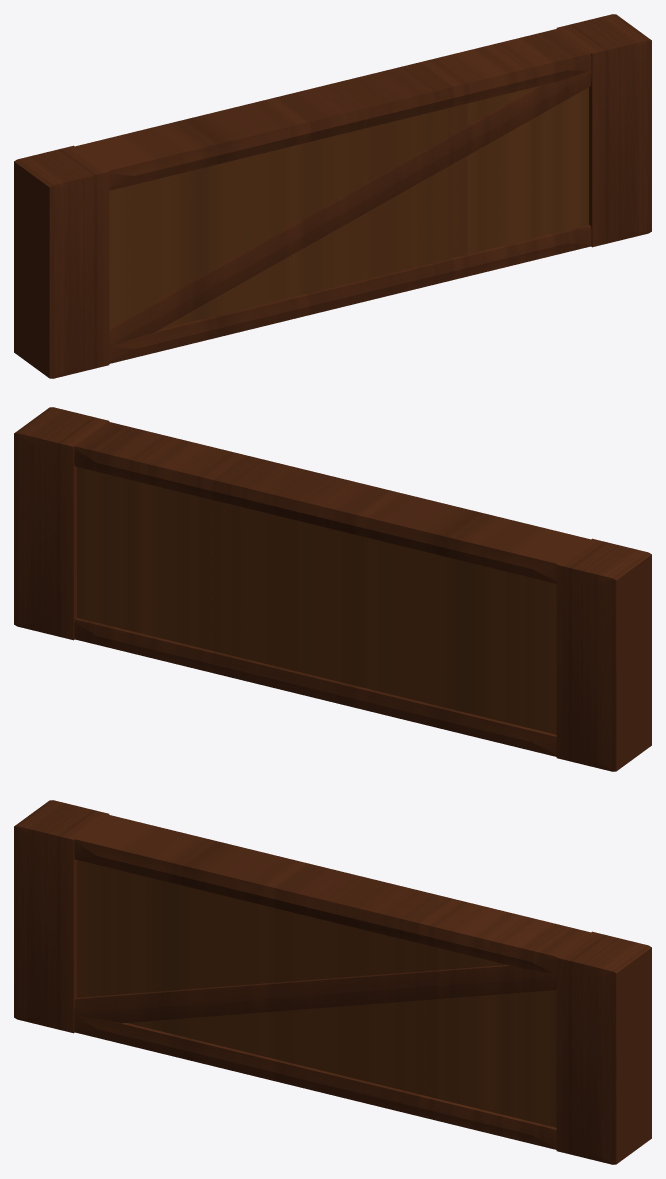
Rendered from Half_Half_Wall_R_Slash_Wood.fbx.
3 views of the same model, one above another, from view 1: azimuth 30°, elevation 25°; view 2: azimuth 150°, elevation 25°; view 3: azimuth 330°, elevation 25° (orthographic).
Parts seen in each view (by area): view 1: Half_Half_Wall_R_Slash_Wood; view 2: Half_Half_Wall_R_Slash_Wood; view 3: Half_Half_Wall_R_Slash_Wood.
Boxes of the visible parts, left/top/right/bottom form: Half_Half_Wall_R_Slash_Wood: left=14, top=14, right=651, bottom=378; Half_Half_Wall_R_Slash_Wood: left=14, top=407, right=651, bottom=771; Half_Half_Wall_R_Slash_Wood: left=14, top=800, right=651, bottom=1164.
Bounding box in the file's own units: 212 × 64.99 × 23.4.
